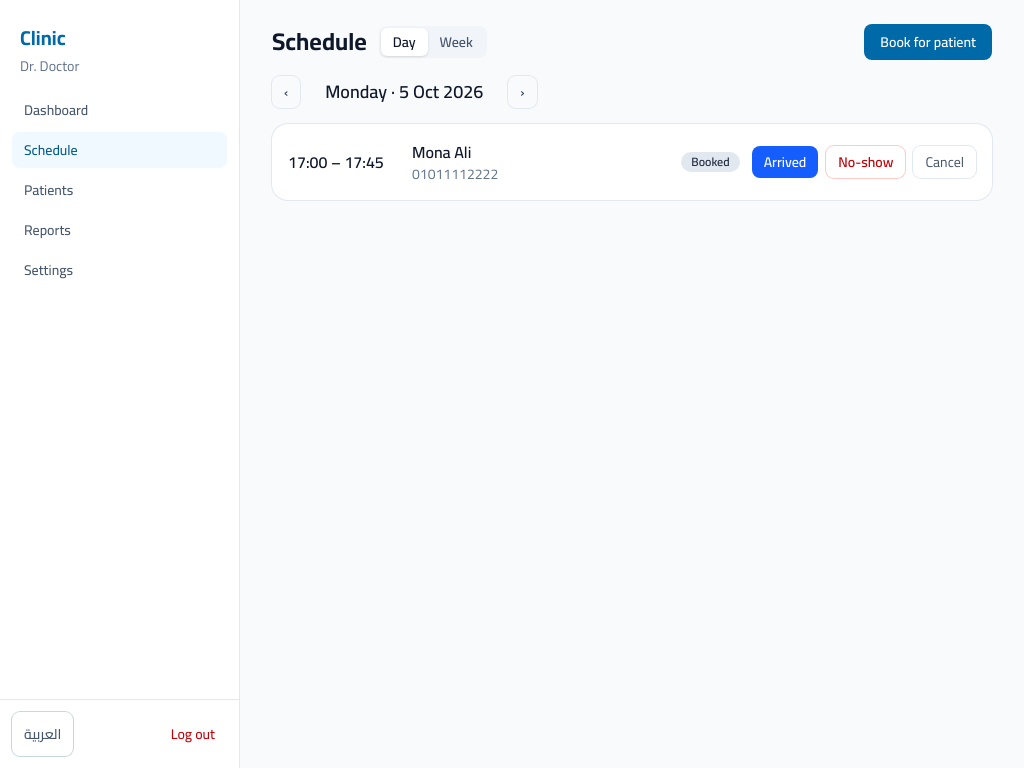
Schedule: day view › shows the server message when a change is refused
This screenshot has width=1024, height=768.
Click the button "Arrived": (785, 162) [752,146,818,178]
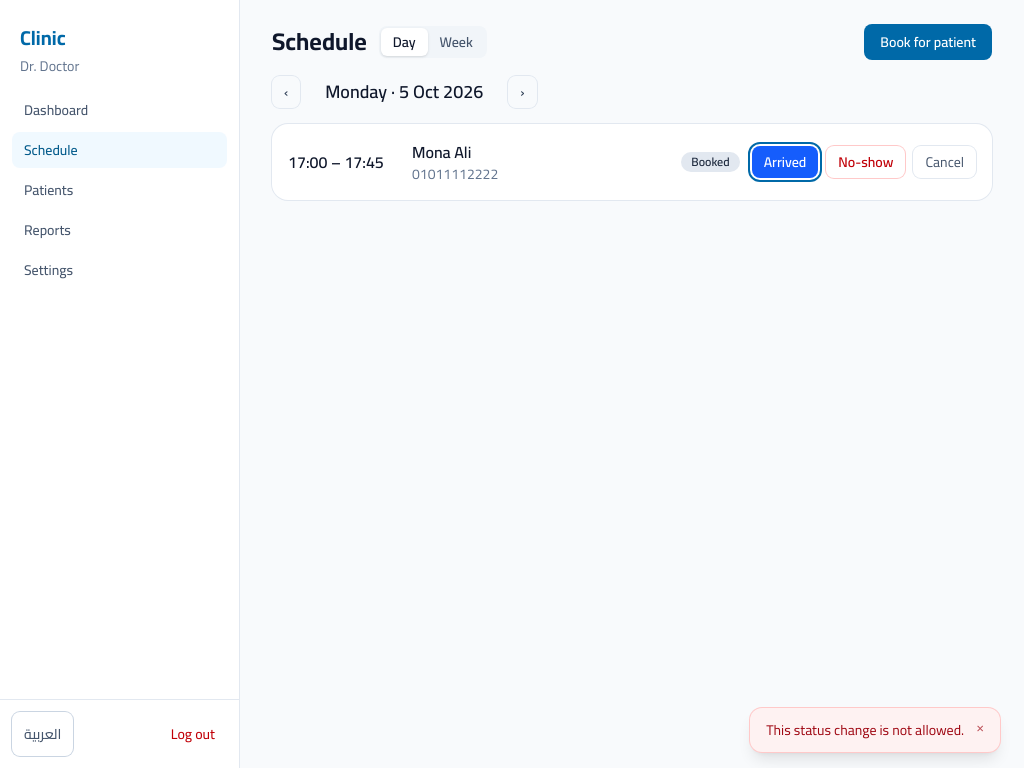
Expected: the text "This status change is not allowed." is shown, [766,720,964,740]
